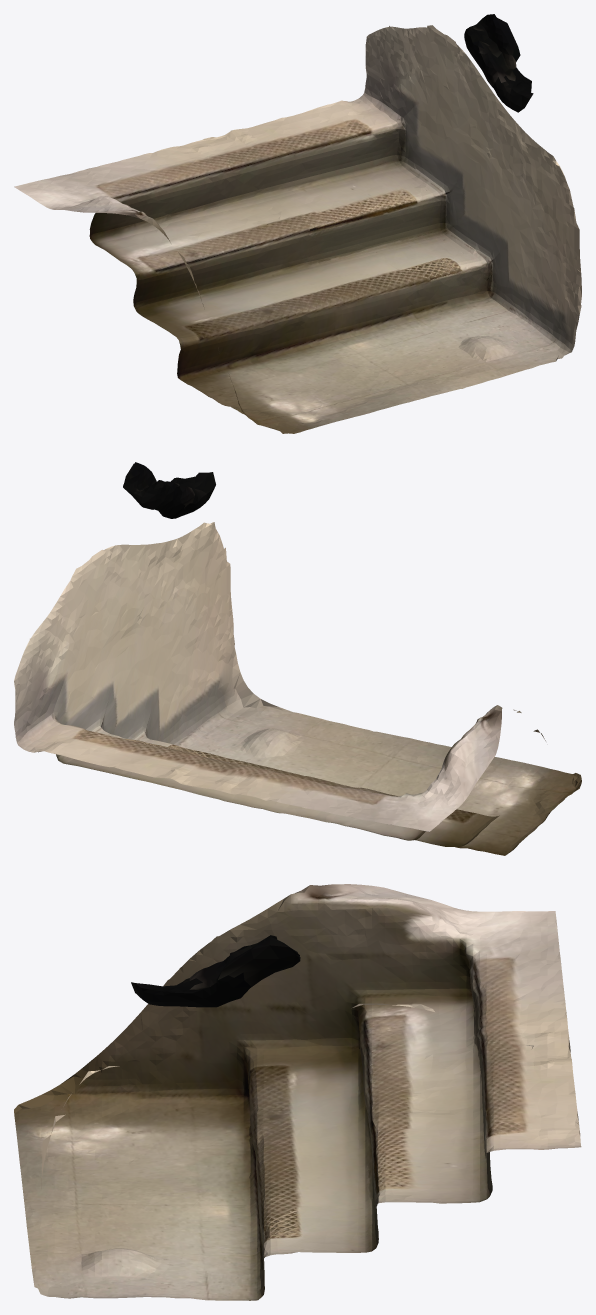
The model's file is stairs.glb.
3 renders of one model, top to bottom at view 1: azimuth 30°, elevation 25°; view 2: azimuth 150°, elevation 25°; view 3: azimuth 270°, elevation 25°, orthographic. The views are drawn at different scales.
Size of the model in its own units: 1.46 by 1.04 by 1.43.
1 material, 1 textured.
